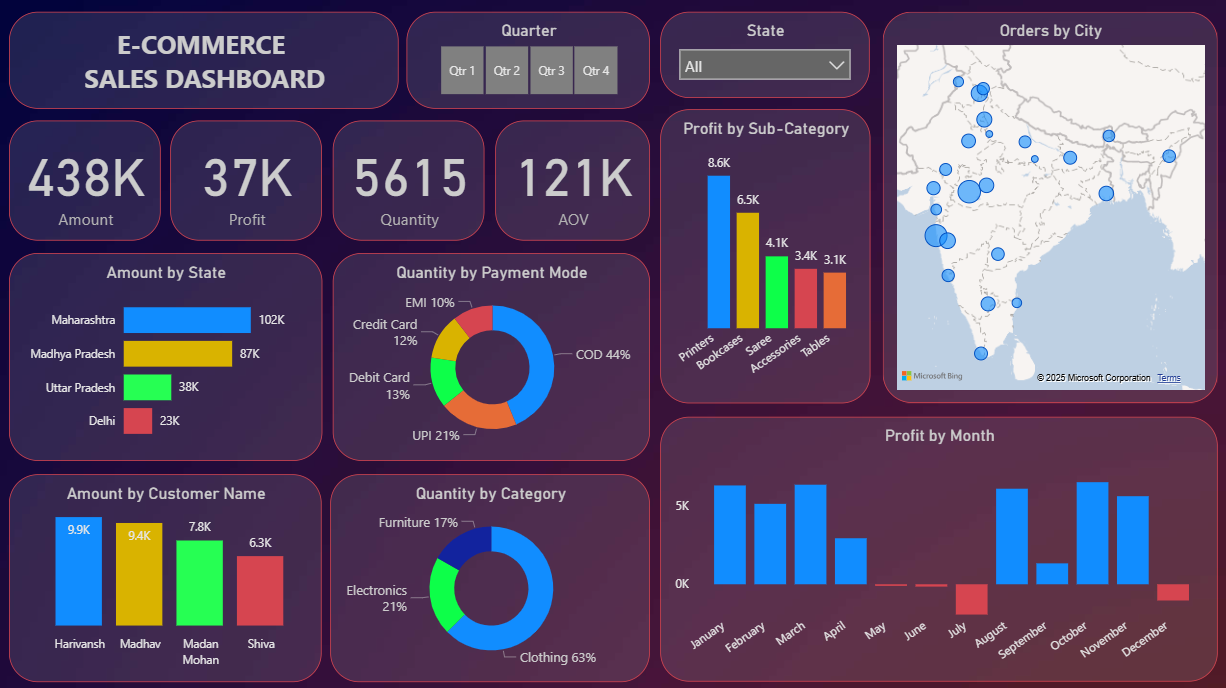

This screenshot's page, from the dashboard's own definition file:
{"tool":"powerbi","page":{"name":"Page 1","canvas":[1280,720],"ordinal":0},"visuals":[{"type":"textbox","box":[9.9,14.2,404.7,100.8],"z":0},{"type":"columnChart","fields":{"Y":["Details.Profit"],"Category":["Orders.Order Date.Variation.Date Hierarchy.Month"]},"box":[687.3,434.6,579.4,275.5],"z":1000},{"type":"columnChart","fields":{"Category":["Details.Sub-Category"],"Y":["Details.Profit"]},"box":[687.3,115,218.7,305.3],"z":2000},{"type":"donutChart","fields":{"Category":["Details.Category"],"Y":["Details.Quantity"]},"box":[343.7,494.2,332.3,215.9],"z":3000},{"type":"donutChart","fields":{"Y":["Details.Quantity"],"Category":["Details.PaymentMode"]},"box":[346.5,265.6,329.5,215.9],"z":4000},{"type":"card","fields":{"Values":["Details.Amount"]},"box":[9.9,127.8,157.6,125],"z":5000},{"type":"card","fields":{"Values":["Details.Profit"]},"box":[178.5,127.8,157.6,125],"z":6000},{"type":"card","fields":{"Values":["Details.Quantity"]},"box":[347,127.8,157.6,125],"z":7000},{"type":"card","fields":{"Values":["Details.AOV"]},"box":[515.5,127.8,160.5,125],"z":8000},{"type":"barChart","fields":{"Category":["Orders.State"],"Y":["Details.Amount"]},"box":[9.9,265.6,325.2,215.9],"z":9000},{"type":"columnChart","fields":{"Category":["Orders.Customer Name"],"Y":["Details.Amount"]},"box":[10,494.2,325,216],"z":10000},{"type":"slicer","title":"Quarter","fields":{"Values":["Orders.Order Date.Variation.Date Hierarchy.Quarter"]},"box":[423.2,14.2,252.8,100.8],"z":11000},{"type":"slicer","title":"State","fields":{"Values":["Orders.State"]},"box":[687.3,14.2,217.3,89.5],"z":12000},{"type":"map","title":"Orders by City","fields":{"Category":["Orders.City"],"Size":["Orders.Order ID"]},"box":[918.8,14.2,347.9,406.2],"z":13000}]}

Visuals, with their boxes in screenshot pixels (x1, y1, x2, y2), scaled from the page's 1280x720 canvas onto the 1226x688 screenshot:
textbox: box(9, 14, 397, 110)
columnChart - Details.Profit x Orders.Order Date.Variation.Date Hierarchy.Month: box(658, 415, 1213, 679)
columnChart - Details.Sub-Category x Details.Profit: box(658, 110, 868, 402)
donutChart - Details.Category x Details.Quantity: box(329, 472, 647, 679)
donutChart - Details.Quantity x Details.PaymentMode: box(332, 254, 647, 460)
card - Details.Amount: box(9, 122, 160, 242)
card - Details.Profit: box(171, 122, 322, 242)
card - Details.Quantity: box(332, 122, 483, 242)
card - Details.AOV: box(494, 122, 647, 242)
barChart - Orders.State x Details.Amount: box(9, 254, 321, 460)
columnChart - Orders.Customer Name x Details.Amount: box(10, 472, 321, 679)
"Quarter" slicer: box(405, 14, 647, 110)
"State" slicer: box(658, 14, 866, 99)
"Orders by City" map: box(880, 14, 1213, 402)
